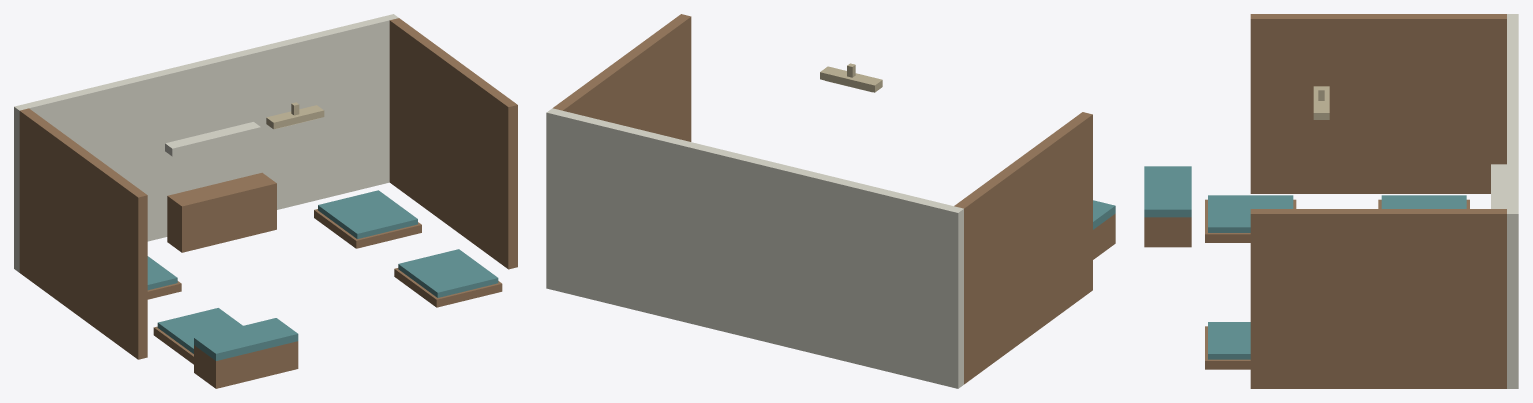
The model's file is quiet_meditation_r001.glb.
The picture shows the model from 3 angles, left to right: view 1: azimuth 30°, elevation 25°; view 2: azimuth 150°, elevation 25°; view 3: azimuth 270°, elevation 25°; orthographic projection. The views are drawn at different scales.
Parts seen in each view (by area): view 1: G2Q_quiet_meditation_QuietBacking, G2Q_quiet_meditation_WestAcousticSide, G2Q_quiet_meditation_EastAcousticSide, G2Q_quiet_meditation_PersonalClosedStore, G2Q_quiet_meditation_QuietSeat, G2Q_quiet_meditation_SoftRest3, G2Q_quiet_meditation_SoftRest1, G2Q_quiet_meditation_QuietSeatPad, G2Q_quiet_meditation_SoftRest2, G2Q_quiet_meditation_NeutralFocusShelf, G2Q_quiet_meditation_RestSupport3, G2Q_quiet_meditation_RestSupport1 (+3 smaller); view 2: G2Q_quiet_meditation_QuietBacking, G2Q_quiet_meditation_WestAcousticSide, G2Q_quiet_meditation_EastAcousticSide, G2Q_quiet_meditation_QuietLightBody, G2Q_quiet_meditation_QuietSeat; view 3: G2Q_quiet_meditation_EastAcousticSide, G2Q_quiet_meditation_WestAcousticSide, G2Q_quiet_meditation_QuietBacking, G2Q_quiet_meditation_QuietSeatPad, G2Q_quiet_meditation_SoftRest2, G2Q_quiet_meditation_SoftRest3, G2Q_quiet_meditation_QuietSeat, G2Q_quiet_meditation_SoftRest0, G2Q_quiet_meditation_NeutralFocusShelf, G2Q_quiet_meditation_RestSupport3, G2Q_quiet_meditation_RestSupport2, G2Q_quiet_meditation_QuietLightBody.
Boxes of the visible parts, x1,y1,x2,y2 form: G2Q_quiet_meditation_QuietBacking: (14,14,398,272); G2Q_quiet_meditation_WestAcousticSide: (19,108,147,359); G2Q_quiet_meditation_EastAcousticSide: (389,18,517,269); G2Q_quiet_meditation_PersonalClosedStore: (167,172,276,252); G2Q_quiet_meditation_QuietSeat: (194,341,298,388); G2Q_quiet_meditation_SoftRest3: (398,249,498,297); G2Q_quiet_meditation_SoftRest1: (318,190,417,238); G2Q_quiet_meditation_QuietSeatPad: (194,318,298,360); G2Q_quiet_meditation_SoftRest2: (157,308,242,353); G2Q_quiet_meditation_NeutralFocusShelf: (165,122,260,156); G2Q_quiet_meditation_RestSupport3: (394,268,502,307); G2Q_quiet_meditation_RestSupport1: (314,209,421,248); G2Q_quiet_meditation_QuietBacking: (546,108,963,388); G2Q_quiet_meditation_WestAcousticSide: (954,112,1092,384); G2Q_quiet_meditation_EastAcousticSide: (553,14,691,141); G2Q_quiet_meditation_QuietLightBody: (820,66,882,92); G2Q_quiet_meditation_QuietSeat: (1093,213,1115,259); G2Q_quiet_meditation_EastAcousticSide: (1250,209,1506,388); G2Q_quiet_meditation_WestAcousticSide: (1250,14,1506,193); G2Q_quiet_meditation_QuietBacking: (1507,14,1518,388); G2Q_quiet_meditation_QuietSeatPad: (1144,166,1191,217); G2Q_quiet_meditation_SoftRest2: (1208,195,1293,232); G2Q_quiet_meditation_SoftRest3: (1208,322,1250,359); G2Q_quiet_meditation_QuietSeat: (1144,217,1191,247); G2Q_quiet_meditation_SoftRest0: (1381,195,1466,208); G2Q_quiet_meditation_NeutralFocusShelf: (1491,164,1506,208); G2Q_quiet_meditation_RestSupport3: (1205,326,1250,369); G2Q_quiet_meditation_RestSupport2: (1205,199,1296,242); G2Q_quiet_meditation_QuietLightBody: (1313,86,1329,119).
Size of the model in its own units: 6 by 2.8 by 4.75.
